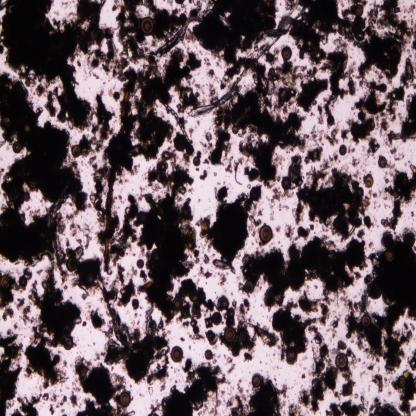Background material: (0, 69, 93, 260), (0, 0, 113, 132), (117, 189, 198, 318), (347, 225, 416, 373), (117, 50, 198, 173), (205, 90, 303, 184), (94, 275, 171, 381), (292, 154, 376, 238), (24, 267, 80, 392), (243, 238, 368, 292), (196, 185, 263, 258), (148, 358, 224, 416), (72, 352, 134, 414), (264, 62, 327, 119), (297, 326, 335, 412), (234, 297, 279, 367), (82, 37, 140, 91), (291, 0, 338, 62), (380, 163, 416, 229), (353, 34, 403, 81), (226, 376, 287, 414), (270, 301, 312, 354), (113, 2, 149, 63), (380, 0, 416, 58), (152, 155, 197, 199), (384, 88, 416, 148), (0, 267, 34, 322), (326, 36, 356, 98), (0, 327, 20, 414), (337, 2, 380, 38), (75, 246, 104, 292), (89, 92, 114, 140), (298, 290, 333, 323), (356, 82, 389, 116), (17, 393, 67, 414), (391, 371, 416, 411), (297, 132, 327, 163), (350, 112, 378, 145), (265, 184, 291, 217), (326, 396, 368, 416), (385, 85, 406, 122), (286, 155, 306, 188), (368, 397, 404, 415), (216, 294, 236, 326), (338, 342, 360, 367), (314, 102, 336, 127), (400, 56, 416, 88), (85, 306, 104, 332), (197, 287, 214, 314), (184, 322, 204, 343), (286, 224, 315, 238), (266, 289, 286, 308), (370, 370, 388, 391), (326, 130, 348, 143), (204, 330, 220, 347), (286, 400, 303, 415), (170, 345, 184, 363), (198, 264, 212, 280), (366, 142, 382, 156), (225, 356, 237, 374), (409, 345, 416, 371), (70, 392, 79, 410), (218, 272, 228, 287), (204, 349, 217, 360), (198, 167, 207, 180)
Cellulose filter fibre: (194, 0, 307, 116), (159, 10, 230, 54)
Diatom: (104, 88, 128, 269), (163, 104, 191, 142), (259, 224, 273, 243), (141, 17, 154, 36), (173, 134, 188, 150), (335, 352, 348, 370), (369, 282, 382, 299), (213, 258, 231, 270), (224, 325, 236, 343), (384, 247, 398, 262), (403, 232, 416, 248), (280, 46, 293, 61), (280, 175, 292, 191), (210, 310, 222, 326), (119, 392, 131, 407), (172, 296, 183, 312), (243, 280, 256, 293), (360, 315, 372, 329), (251, 372, 262, 387), (188, 287, 198, 302), (65, 260, 78, 271), (286, 349, 296, 363), (352, 5, 364, 16), (378, 156, 388, 168), (1, 276, 11, 288), (71, 146, 82, 156), (12, 141, 22, 152), (329, 367, 338, 379), (397, 377, 406, 389), (191, 306, 200, 317), (343, 385, 352, 396), (64, 338, 73, 349), (339, 145, 347, 156), (356, 187, 364, 198), (193, 157, 201, 167), (187, 144, 194, 155), (136, 260, 145, 268), (232, 126, 239, 134)
